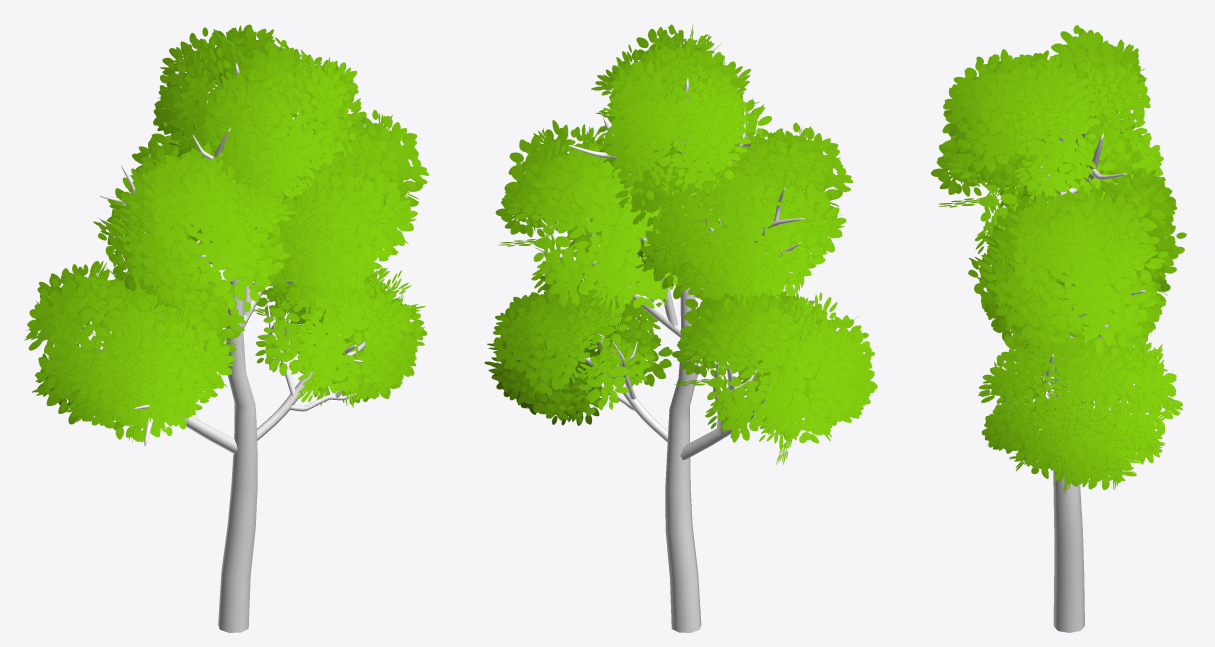
Rendered from normal_tree_2.glb.
3 views of the same model, side by side, from view 1: azimuth 30°, elevation 25°; view 2: azimuth 150°, elevation 25°; view 3: azimuth 270°, elevation 25° (orthographic). The views are drawn at different scales.
Parts seen in each view (by area): view 1: NormalTree_2.001; view 2: NormalTree_2.001; view 3: NormalTree_2.001.
Part boxes in pixels (x1=…): NormalTree_2.001: x1=24, y1=24, x2=428, y2=632; NormalTree_2.001: x1=484, y1=23, x2=877, y2=632; NormalTree_2.001: x1=931, y1=25, x2=1186, y2=632.
Size of the model in its own units: 4.55 by 6.56 by 2.79.
Materials: 2 (1 with a texture image).
